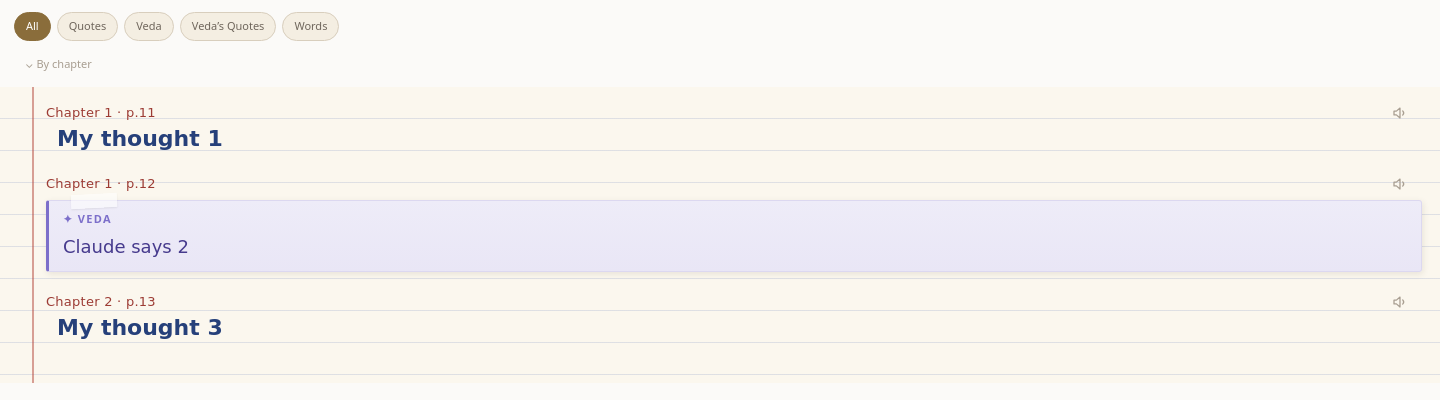
Test: the words tab › lists the kept words, with the meaning under each
Step 1. Click the radio button labelled "Words" → (311, 26), box [282,12,339,40]
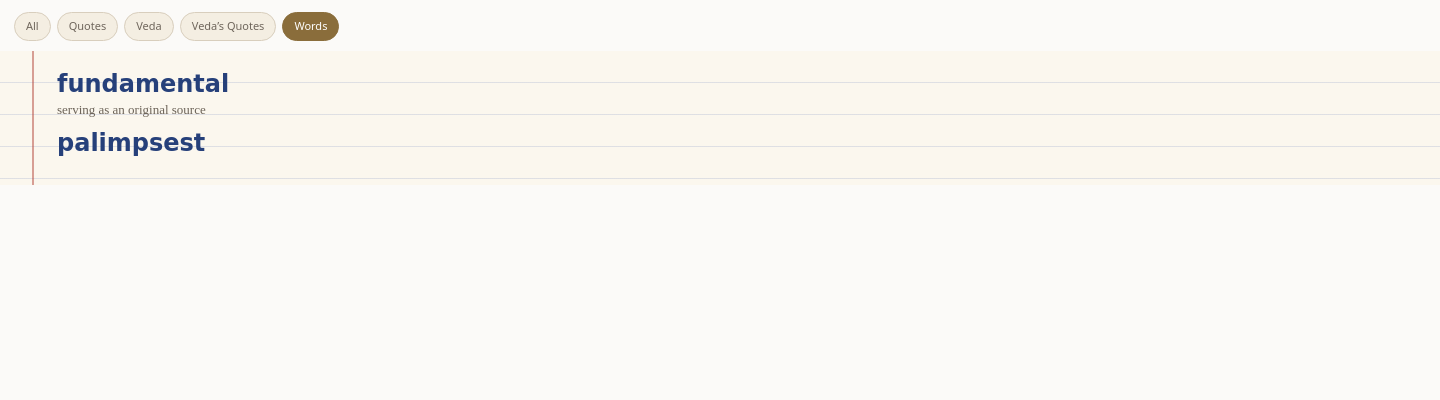
Expected: the text "fundamental" is shown, [57,70,229,98]
Expected: the text "serving as an original source" is shown, [57,102,206,116]
Expected: the text "palimpsest" is shown, [57,128,205,156]
